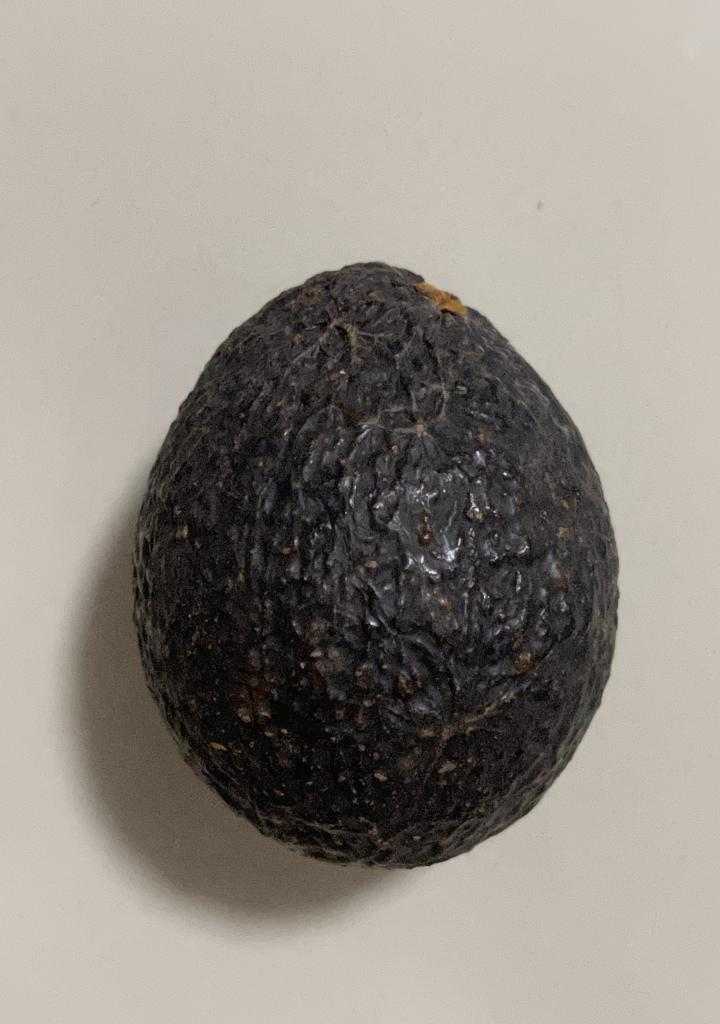Level2: (124, 251, 628, 877)
